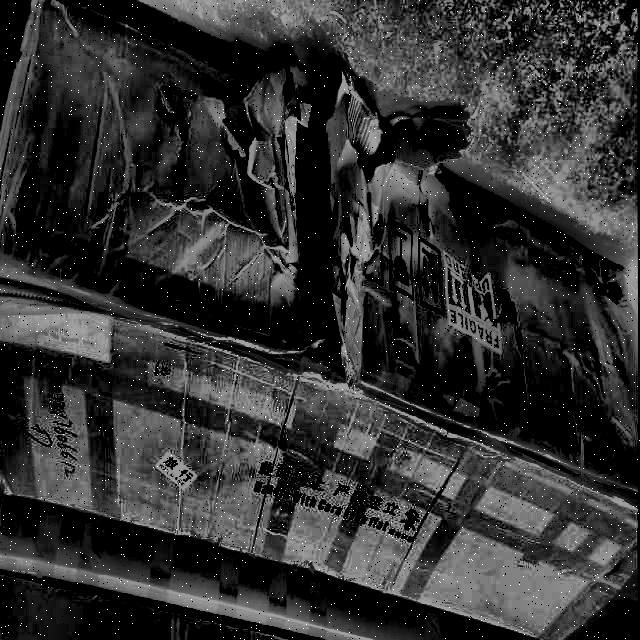box: (1, 1, 638, 640)
hole: (283, 77, 375, 386)
